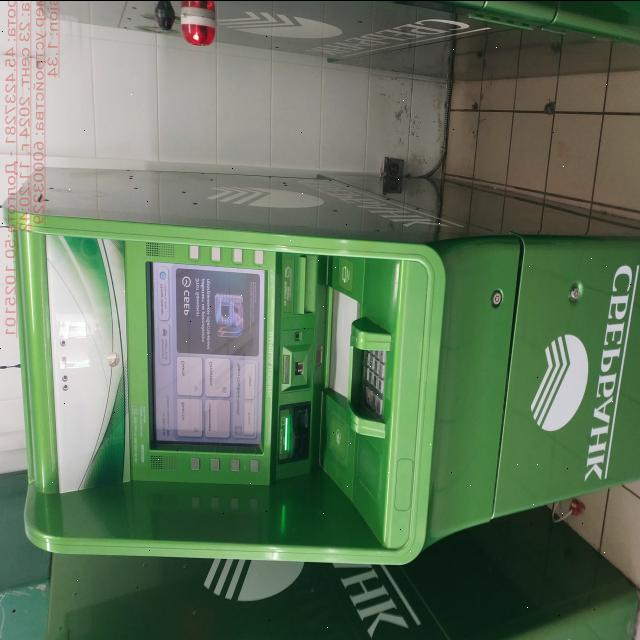bank: (1, 153, 640, 566), (35, 526, 636, 640), (18, 0, 640, 86)
